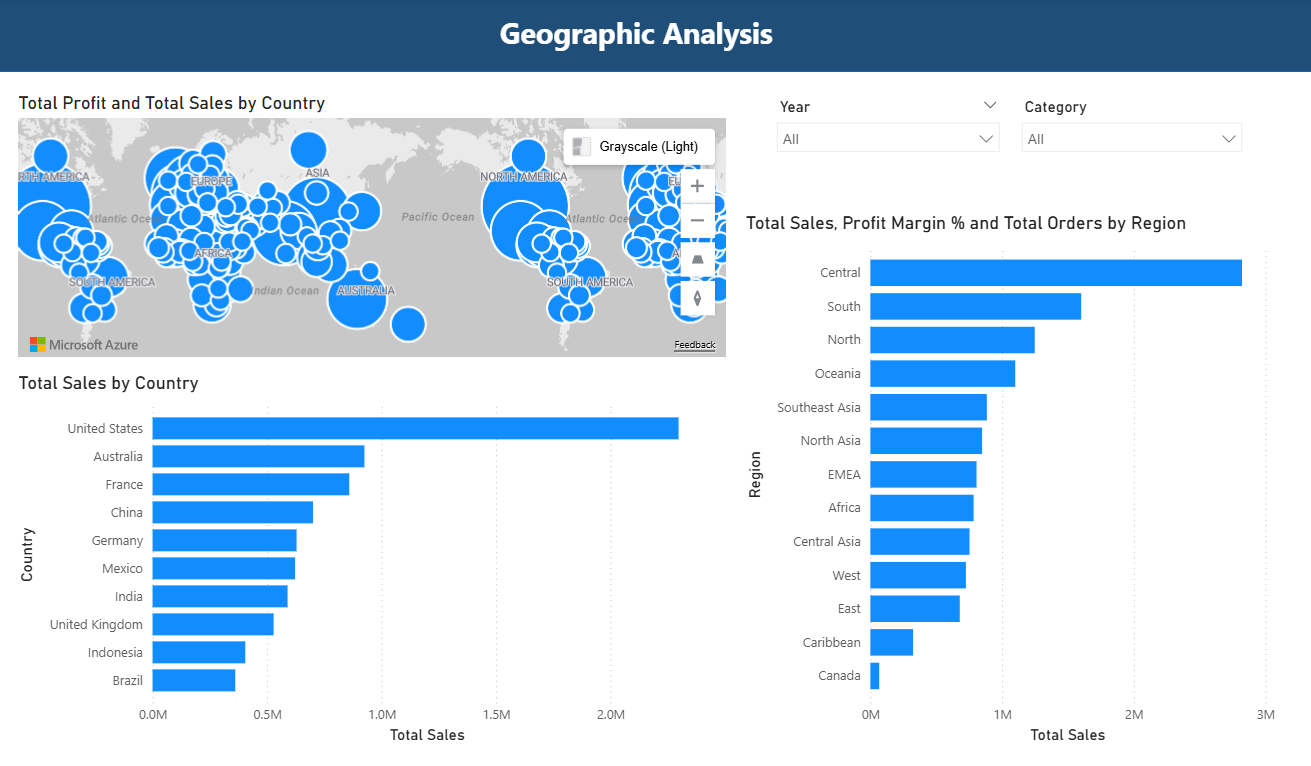

The dashboard page shown, as its layout file describes it:
{"tool":"powerbi","page":{"name":"Geographic Analysis","canvas":[1280,720],"ordinal":2},"visuals":[{"type":"shape","box":[0,0,1224.4,68.9],"z":0},{"type":"textbox","box":[463.3,8.9,480,50],"z":1000},{"type":"actionButton","box":[0,0,100,40],"z":2000},{"type":"azureMap","fields":{"Category":["superstore_cleaned.Country"],"Size":["DateTable.Total Profit"]},"box":[15.6,87.8,667.8,251.1],"z":3000},{"type":"clusteredBarChart","title":"Total Sales by Country","fields":{"Category":["superstore_cleaned.Country"],"Y":["DateTable.Total Sales"]},"box":[15.6,347.8,660,351.1],"z":4000},{"type":"clusteredBarChart","fields":{"Category":["superstore_cleaned.Region"],"Y":["DateTable.Total Sales"]},"box":[692.2,198.9,502.2,500],"z":5000},{"type":"slicer","fields":{"Values":["DateTable.Year"]},"box":[715.6,87.8,227.8,73.3],"z":5001},{"type":"slicer","fields":{"Values":["superstore_cleaned.Category"]},"box":[943.3,87.8,225.6,73.3],"z":5002}]}

Visuals, with their boxes on the page's 1280x720 design canvas (x1, y1, x2, y2). These are canvas units, not pixel positions in the 1311x766 screenshot, which may show the page scaled, cropped or inside an application window:
shape: <bbox>0, 0, 1224, 69</bbox>
textbox: <bbox>463, 9, 943, 59</bbox>
actionButton: <bbox>0, 0, 100, 40</bbox>
azureMap - superstore_cleaned.Country x DateTable.Total Profit: <bbox>16, 88, 683, 339</bbox>
"Total Sales by Country" clusteredBarChart: <bbox>16, 348, 676, 699</bbox>
clusteredBarChart - superstore_cleaned.Region x DateTable.Total Sales: <bbox>692, 199, 1194, 699</bbox>
slicer - DateTable.Year: <bbox>716, 88, 943, 161</bbox>
slicer - superstore_cleaned.Category: <bbox>943, 88, 1169, 161</bbox>
